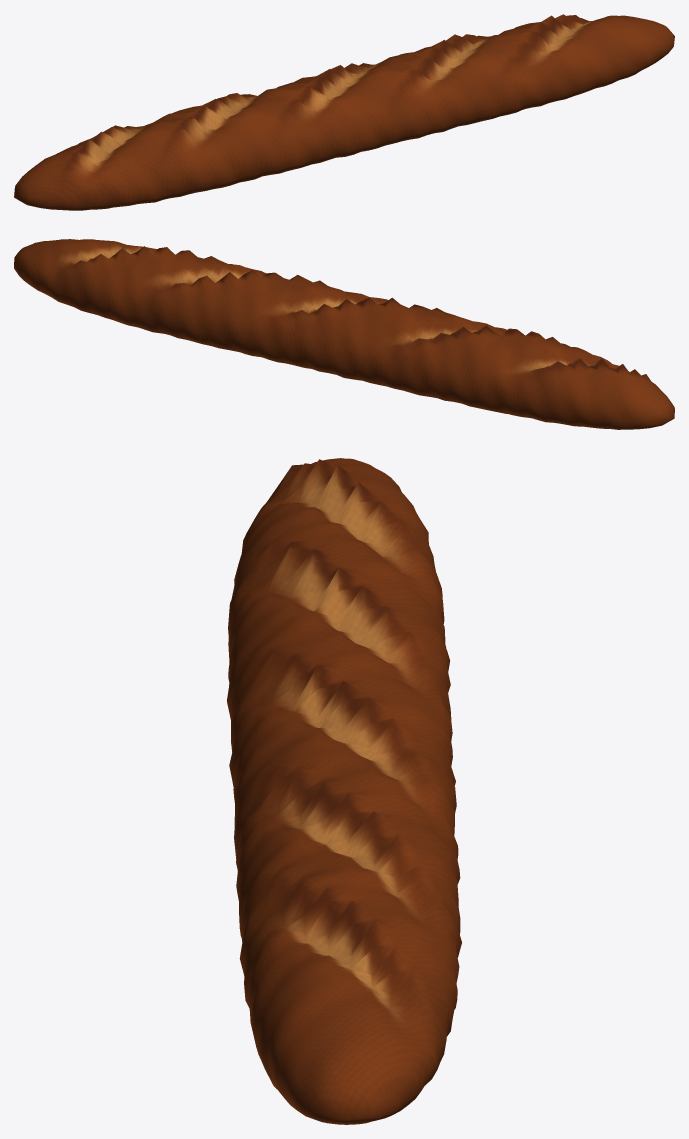
Rendered from NEW359_baguette_LOD2.glb.
3 views of the same model, one above another, from view 1: azimuth 30°, elevation 25°; view 2: azimuth 150°, elevation 25°; view 3: azimuth 270°, elevation 25° (orthographic). The views are drawn at different scales.
Visible parts, largest first — view 1: Whole_baguette_closed_baked_shell; view 2: Whole_baguette_closed_baked_shell; view 3: Whole_baguette_closed_baked_shell.
Part boxes in pixels (x1,y1,x2,y2): Whole_baguette_closed_baked_shell: (14, 14, 674, 210); Whole_baguette_closed_baked_shell: (14, 239, 674, 429); Whole_baguette_closed_baked_shell: (227, 458, 461, 1124).
Size of the model in its own units: 0.54 by 0.0544 by 0.0834.
1 material, 1 textured.
